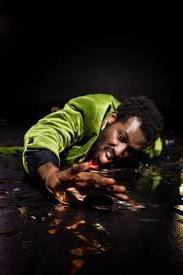Drunk: (96, 116, 143, 164)
